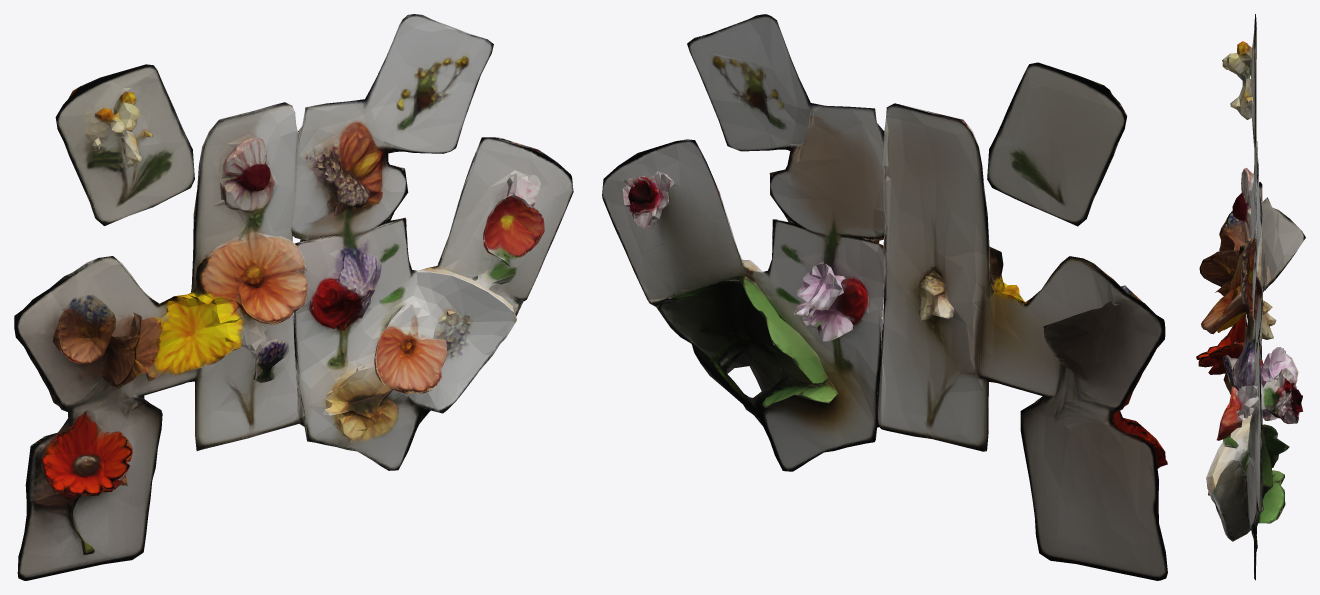
Rendered from pressed-flower-memory-game-organic hi-res.jpeg.glb.
The picture shows the model from 3 angles, left to right: view 1: azimuth 30°, elevation 25°; view 2: azimuth 150°, elevation 25°; view 3: azimuth 270°, elevation 25°; orthographic projection. The views are drawn at different scales.
Parts seen in each view (by area): view 1: world; view 2: world; view 3: world.
Boxes of the visible parts, x1,y1,x2,y2 form: world: [14, 14, 573, 580]; world: [602, 14, 1167, 580]; world: [1196, 14, 1305, 580].
Size of the model in its own units: 1 by 0.8416 by 0.1856.
1 material, 1 textured.
